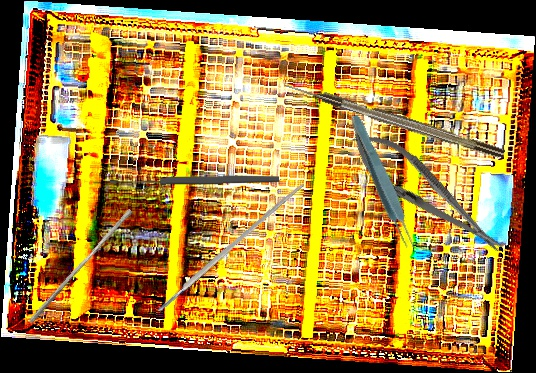Hook Surgical: (284, 79, 506, 161)
Needle Holder: (338, 117, 515, 269)
Pusher: (28, 205, 134, 328)
Scalpel Handle: (155, 180, 306, 314)
Surgical Spoon: (109, 173, 280, 187)
Tissue Forceps: (345, 112, 420, 253)
